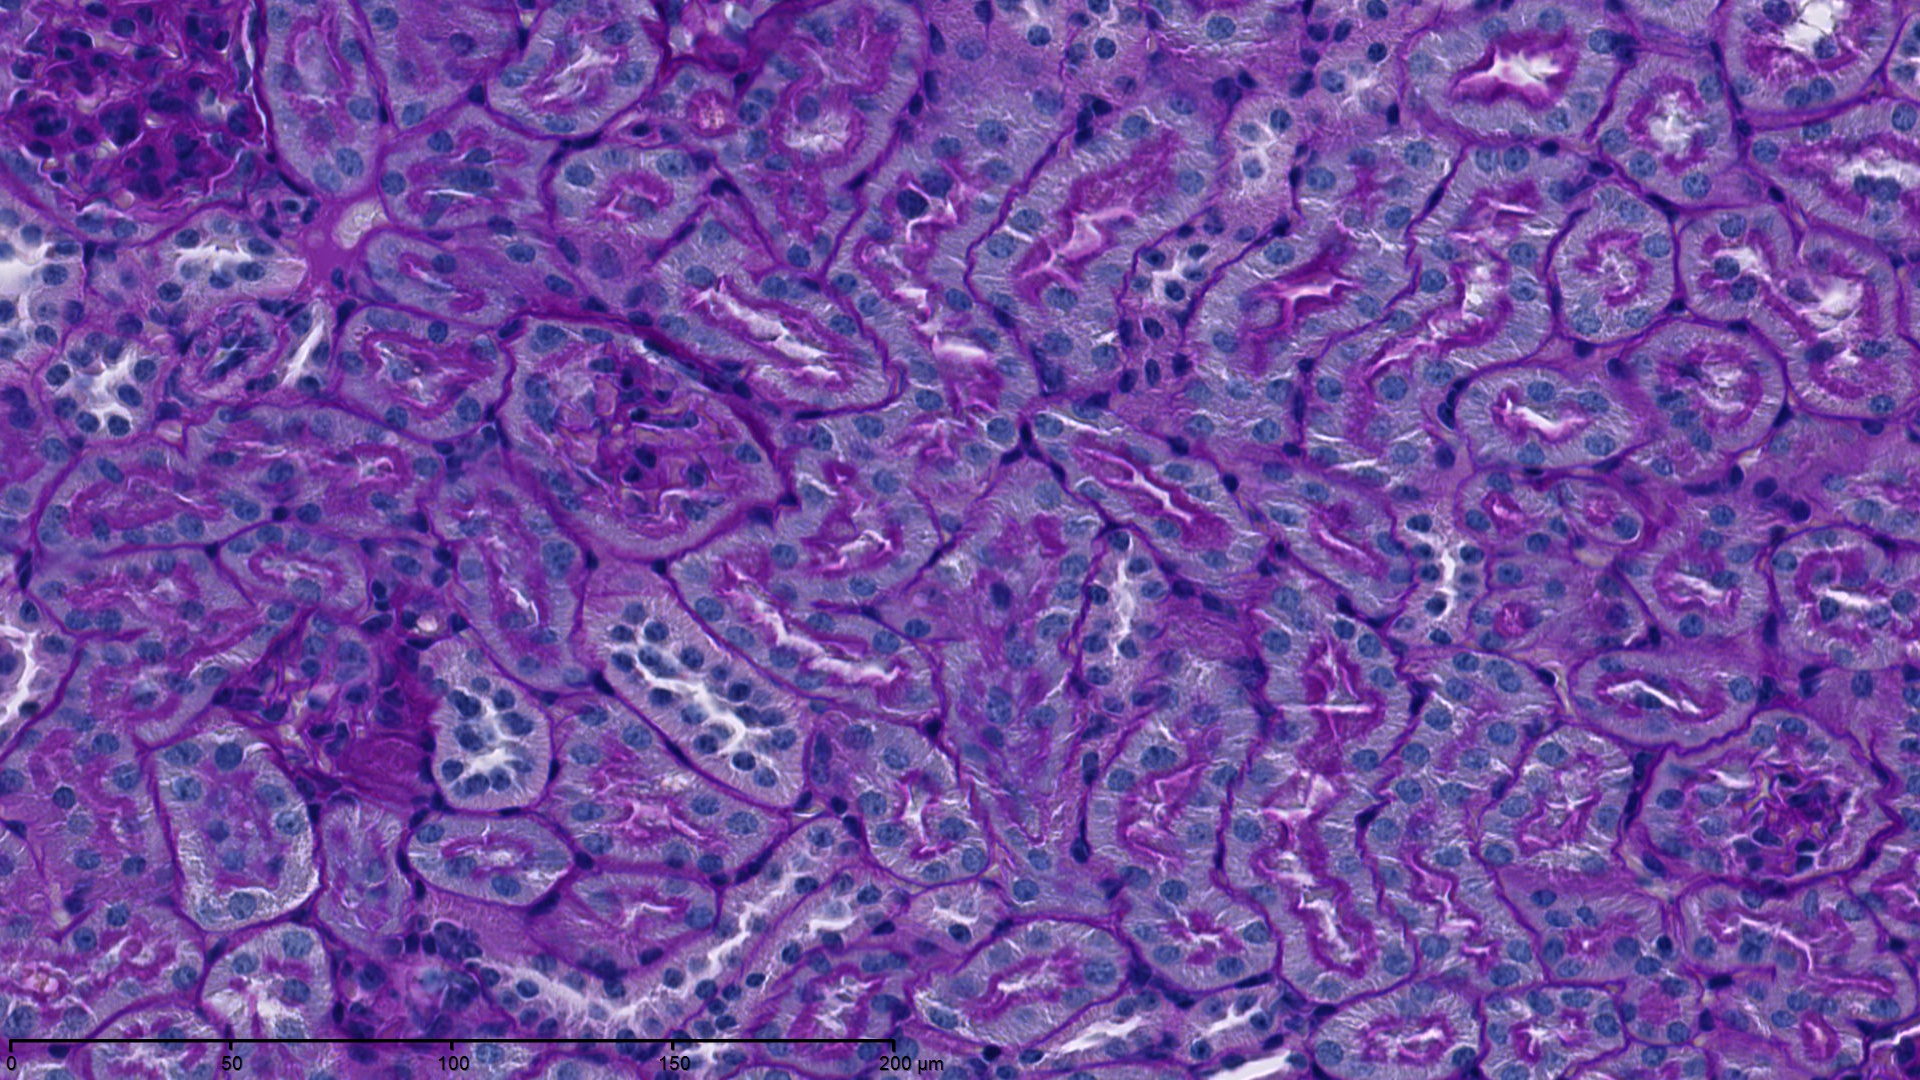Glomeruli: (1, 3, 282, 244)
